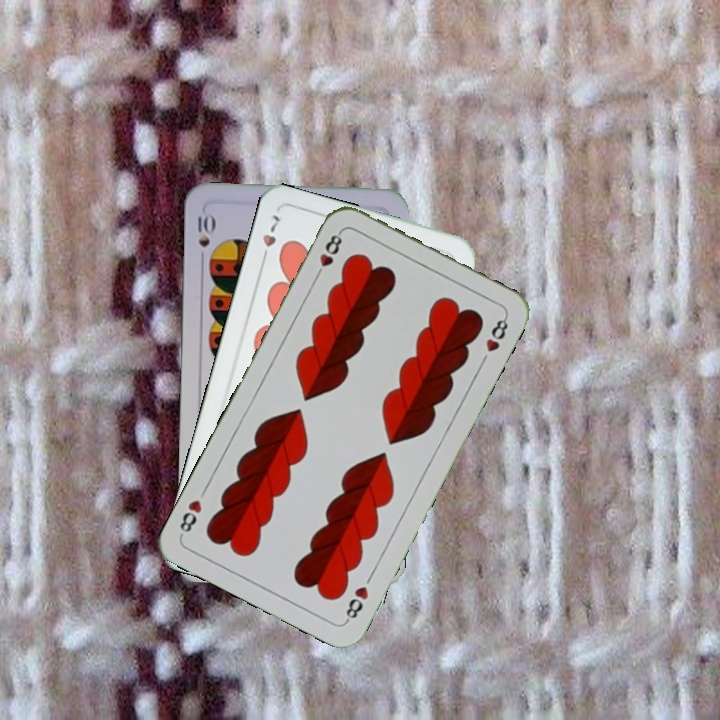H7: (257, 210, 283, 267)
H8: (311, 227, 345, 282), (341, 582, 371, 625)
S10: (193, 209, 216, 266)
